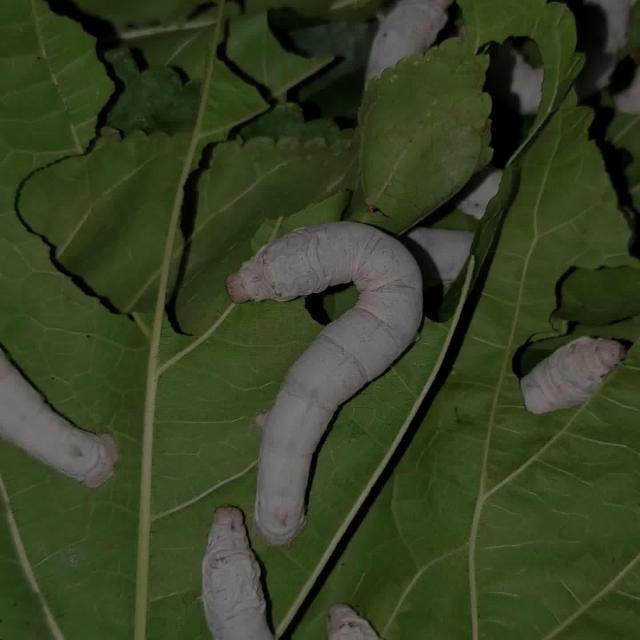Healthy: (199, 191, 464, 640)
